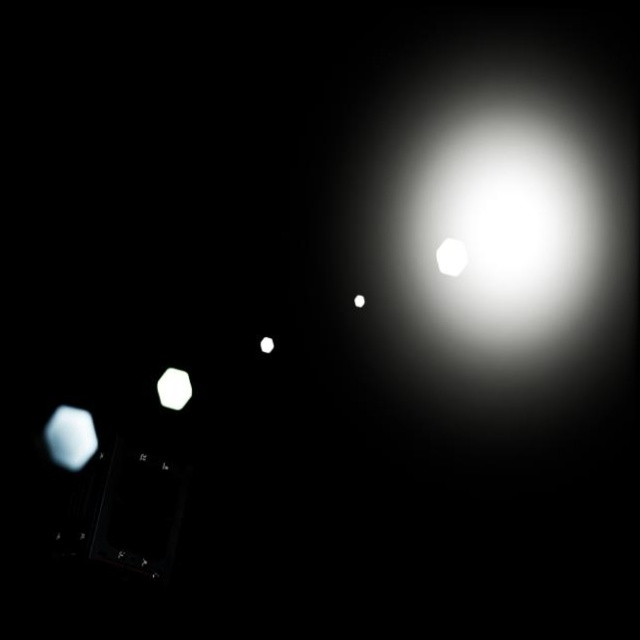medium_debris: (60, 440, 197, 588)
